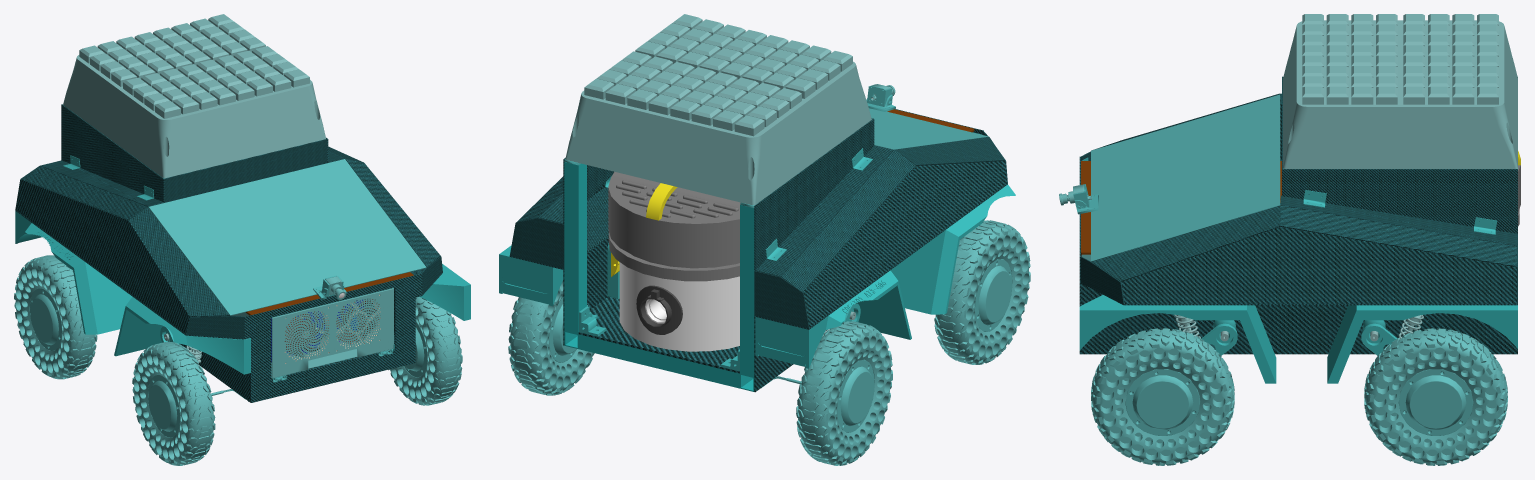
The model's file is fod-hunter.glb.
3 views of the same model, side by side, from view 1: azimuth 30°, elevation 25°; view 2: azimuth 150°, elevation 25°; view 3: azimuth 270°, elevation 25° (orthographic). The views are drawn at different scales.
Visible parts, largest first — view 1: Headlight plate-1, UAV Charger-1, Glass panel-1, ZLLG80ASM250-HT V2.0.stp-1/PRT0001_61.stp-1, Rear Wheelcover v1-1, Ruiyisi 48Vto12V DC converter-1, ZLLG80ASM250-HT V2.0.stp-1/6_5CUN-CI_ASM.stp-1/MANIFOLD_SOLI, NF-A12x25_Public-CAD.stp-1/NF-A12x25_Impeller-Public.stp-1, Component plate V2.1 (Layer 1)-1, 4040 (MILLED DOWN) 30mm width bracket-10; view 2: Headlight plate-1, UAV Charger-1, ZLLG80ASM250-HT V2.0.stp-1/PRT0001_61.stp-1, Rear Wheelcover v1-1, SOARFLY Wet Dry Vacuum cleaner 20 Litre V2-1, 3030 Square tube Shorter-5, Modified bin V2.1-1, ZLLG80ASM250-HT V2.0.stp-1/6_5CUN-CI_ASM.stp-1/MANIFOLD_SOLI, Glass panel-1, 4040 (MILLED DOWN) 30mm width bracket-10, SLIDER_SSRN3620-1; view 3: Headlight plate-1, UAV Charger-1, ZLLG80ASM250-HT V2.0.stp-1/PRT0001_61.stp-1, Glass panel-1, Rear Wheelcover v1-1, ZLLG80ASM250-HT V2.0.stp-1/6_5CUN-CI_ASM.stp-1/MANIFOLD_SOLI, 4040 (MILLED DOWN) 30mm width bracket-10, Component plate V2.1 (Layer 1)-1, Spring-2, SLIDER_SSRN3620-1.
Boxes of the visible parts, x1,y1,x2,y2 form: Headlight plate-1: (15,104,442,402); UAV Charger-1: (63,14,325,178); Glass panel-1: (148,159,426,317); ZLLG80ASM250-HT V2.0.stp-1/PRT0001_61.stp-1: (14,255,462,465); Rear Wheelcover v1-1: (15,211,470,374); Ruiyisi 48Vto12V DC converter-1: (232,276,393,378); ZLLG80ASM250-HT V2.0.stp-1/6_5CUN-CI_ASM.stp-1/MANIFOLD_SOLI: (30,288,427,437); NF-A12x25_Public-CAD.stp-1/NF-A12x25_Impeller-Public.stp-1: (284,300,376,357); Component plate V2.1 (Layer 1)-1: (245,272,413,315); 4040 (MILLED DOWN) 30mm width bracket-10: (63,155,394,352); Headlight plate-1: (509,109,1007,392); UAV Charger-1: (565,14,871,205); ZLLG80ASM250-HT V2.0.stp-1/PRT0001_61.stp-1: (508,220,1030,465); Rear Wheelcover v1-1: (499,184,1015,368); SOARFLY Wet Dry Vacuum cleaner 20 Litre V2-1: (608,171,740,281); 3030 Square tube Shorter-5: (564,162,754,391); Modified bin V2.1-1: (619,262,739,351); ZLLG80ASM250-HT V2.0.stp-1/6_5CUN-CI_ASM.stp-1/MANIFOLD_SOLI: (549,259,1012,432); Glass panel-1: (869,108,988,149); 4040 (MILLED DOWN) 30mm width bracket-10: (579,132,981,371); SLIDER_SSRN3620-1: (564,84,895,262); Headlight plate-1: (1079,76,1517,354); UAV Charger-1: (1283,14,1517,168); ZLLG80ASM250-HT V2.0.stp-1/PRT0001_61.stp-1: (1091,328,1507,465); Glass panel-1: (1091,94,1280,261); Rear Wheelcover v1-1: (1079,295,1517,383); ZLLG80ASM250-HT V2.0.stp-1/6_5CUN-CI_ASM.stp-1/MANIFOLD_SOLI: (1125,369,1473,435); 4040 (MILLED DOWN) 30mm width bracket-10: (1081,157,1497,355); Component plate V2.1 (Layer 1)-1: (1081,161,1281,254); Spring-2: (1174,314,1423,338); SLIDER_SSRN3620-1: (1073,168,1517,214).
Bounding box in the file's own units: 0.6724 × 0.6841 × 0.8455.
40 materials, 1 textured.
